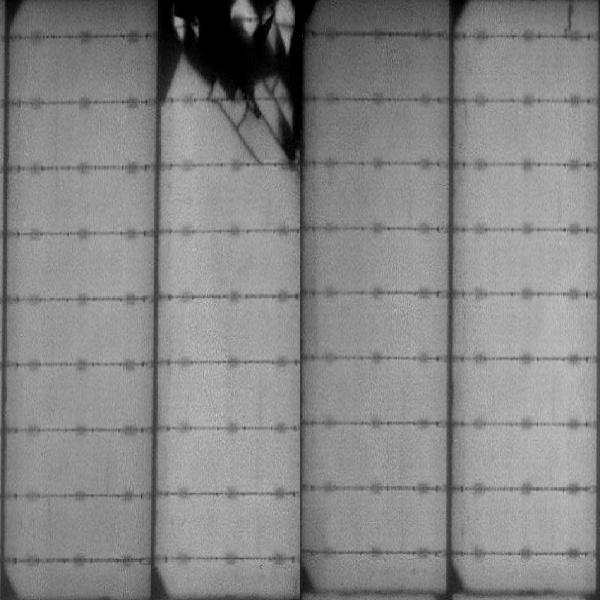broken: (158, 1, 304, 164)
scratch: (564, 1, 577, 32)
